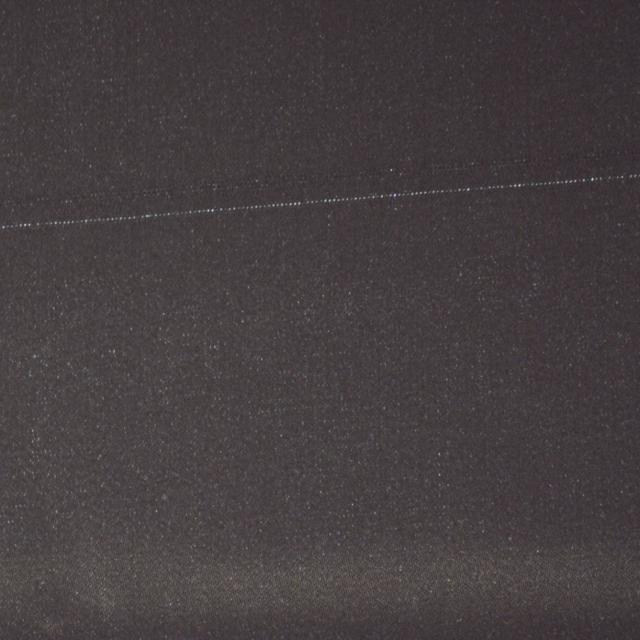Warp_Weft: (1, 172, 640, 232)
